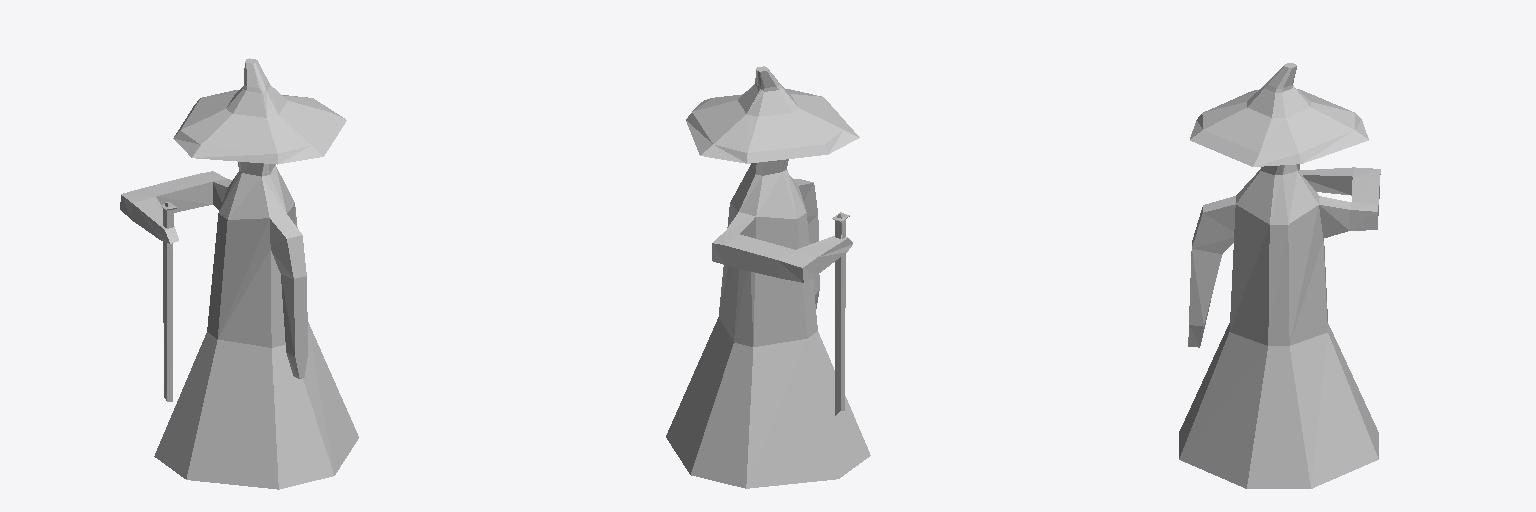
File: Mage.obj
The picture shows the model from 3 angles: view 1: azimuth 30°, elevation 25°; view 2: azimuth 150°, elevation 25°; view 3: azimuth 270°, elevation 25°; orthographic projection.
Visible parts, largest first — view 1: Cube.001; view 2: Cube.001; view 3: Cube.001.
Boxes of the visible parts, <box> form: Cube.001: <box>120,58,358,489</box>; Cube.001: <box>666,66,870,488</box>; Cube.001: <box>1179,63,1380,488</box>.
Bounding box in the file's own units: 0.7671 × 1.61 × 0.7726.